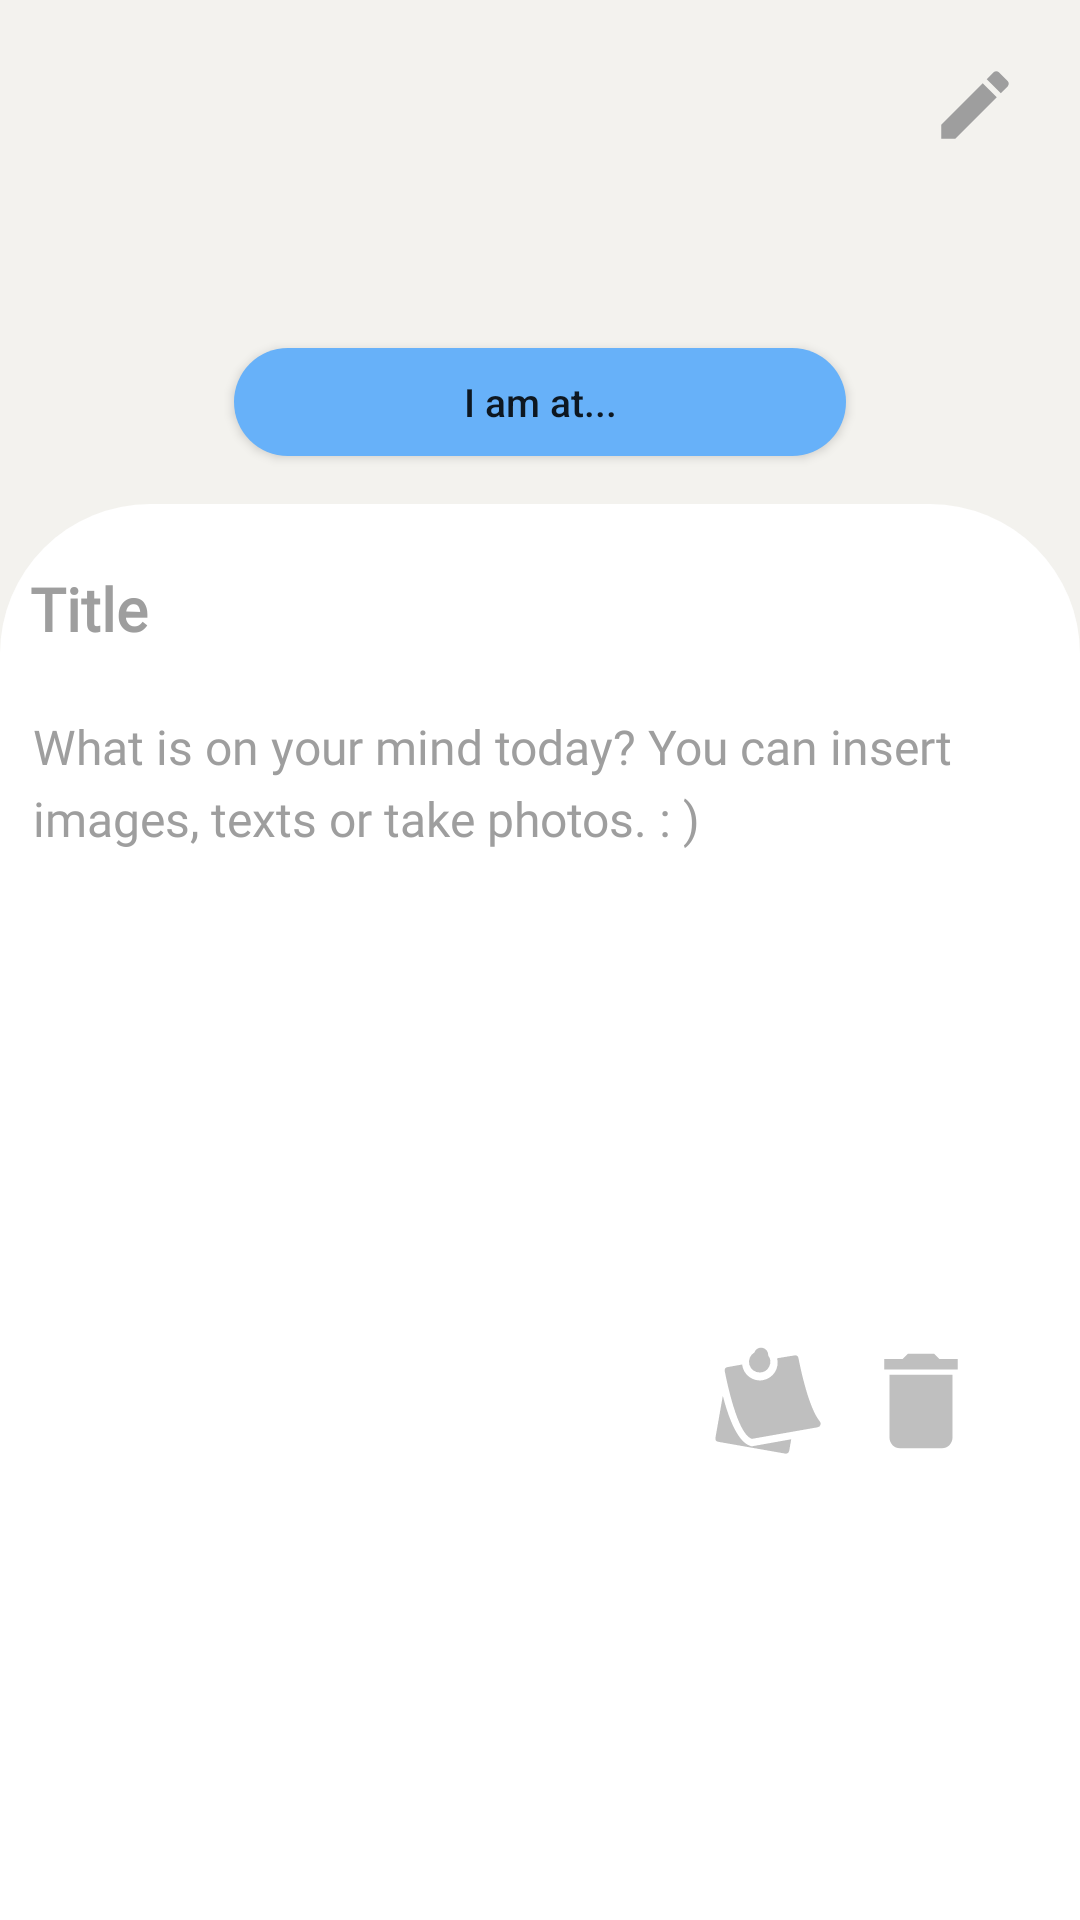

Named icons in this screenshot (1080px x 1920px) and their centers, (x,y):
delete: (921,1401)
edit: (975,105)
post: (768,1401)
